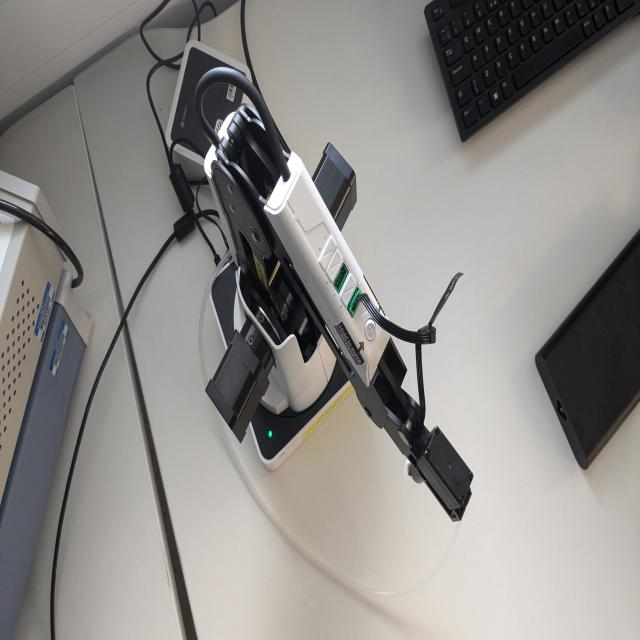Robot-end-effector-HF8z: (401, 423, 476, 522)
